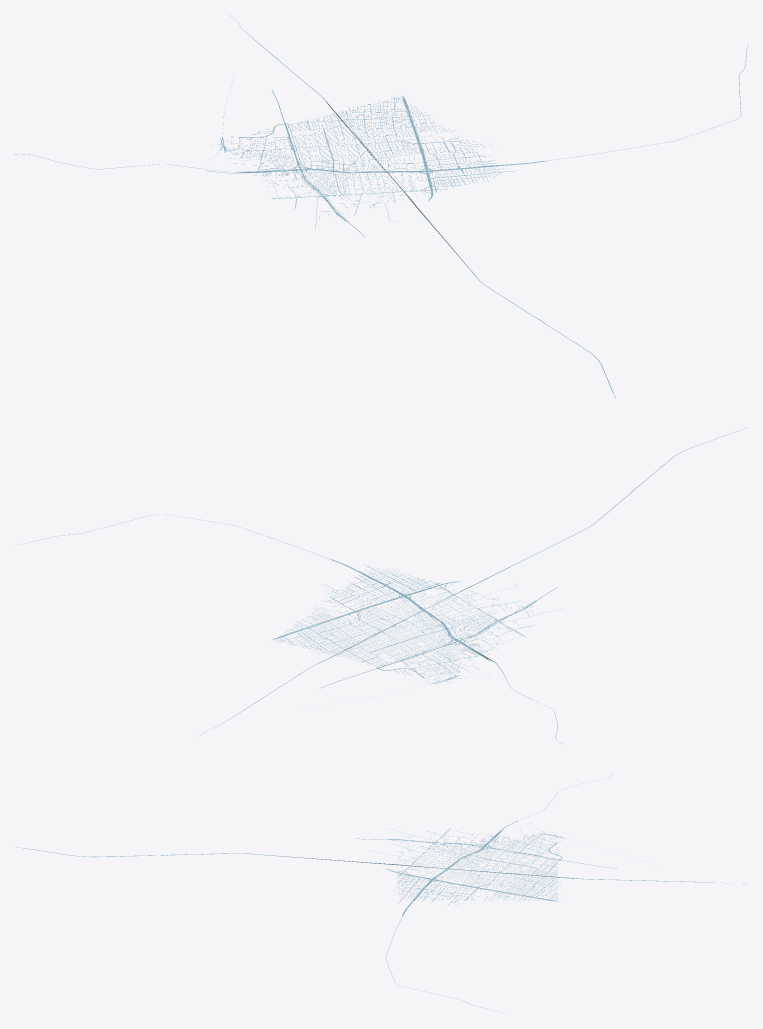
Rendered from roads.glb.
The picture shows the model from 3 angles, top to bottom: view 1: azimuth 30°, elevation 25°; view 2: azimuth 150°, elevation 25°; view 3: azimuth 270°, elevation 25°; orthographic projection. The views are drawn at different scales.
Parts seen in each view (by area): view 1: roads; view 2: roads; view 3: roads.
Part boxes in pixels (x1,y1,x2,y2): roads: [14, 15, 748, 398]; roads: [15, 427, 747, 743]; roads: [16, 773, 746, 1014].
Bounding box in the file's own units: 14894 × 60.54 × 19073.
